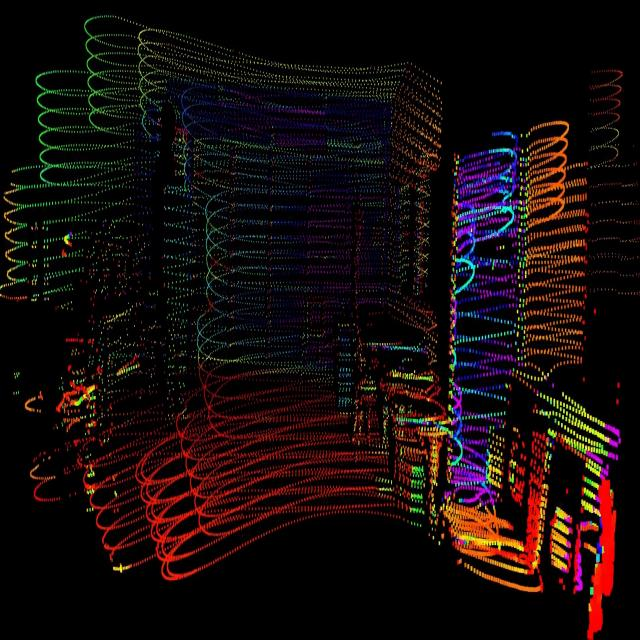human: (157, 112, 203, 427)
